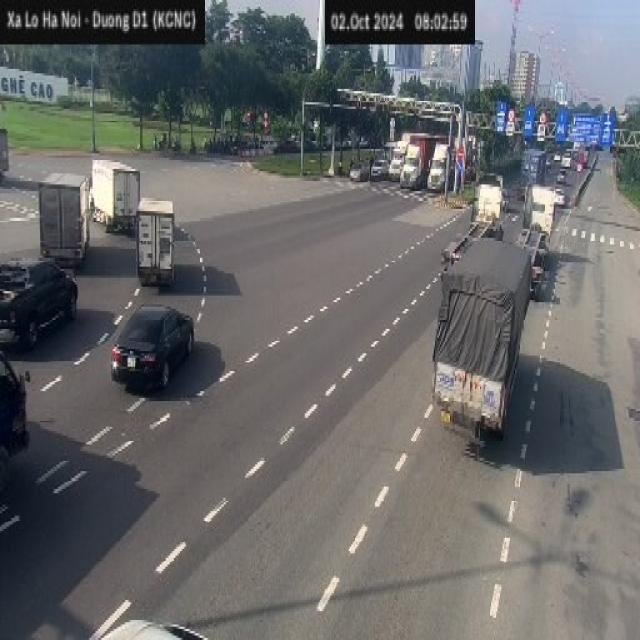car: (118, 286, 194, 423), (0, 247, 82, 360), (102, 611, 206, 640), (366, 146, 387, 197), (554, 170, 568, 235)
container-truck: (448, 158, 510, 302), (524, 178, 566, 334), (513, 138, 550, 205), (428, 141, 459, 200), (398, 150, 428, 208), (388, 136, 410, 184)
truck: (444, 211, 525, 464), (129, 175, 188, 292), (33, 166, 98, 272), (0, 320, 36, 492), (87, 150, 140, 243), (0, 114, 20, 201)
